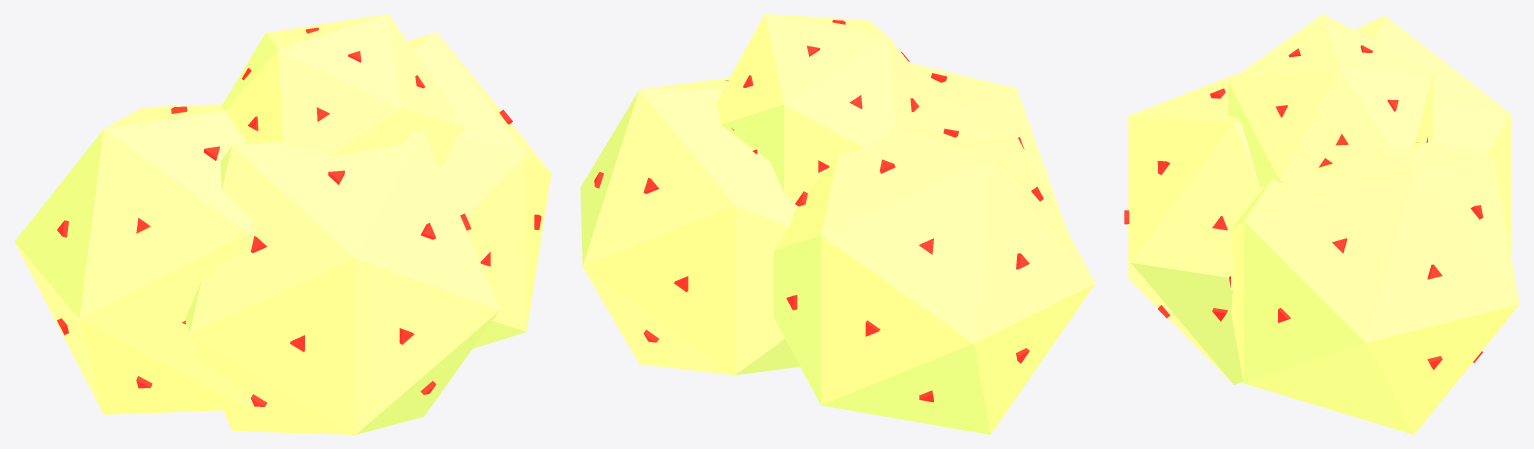
Rendered from bush.fbx.
3 renders of one model, left to right at view 1: azimuth 30°, elevation 25°; view 2: azimuth 150°, elevation 25°; view 3: azimuth 270°, elevation 25°, orthographic. The views are drawn at different scales.
Visible parts, largest first — view 1: Merge_0; view 2: Merge_0; view 3: Merge_0.
Part boxes in pixels (x1,y1,x2,y2): Merge_0: [14, 14, 551, 434]; Merge_0: [580, 14, 1095, 434]; Merge_0: [1124, 14, 1519, 434].
Size of the model in its own units: 281 by 189 by 207.
